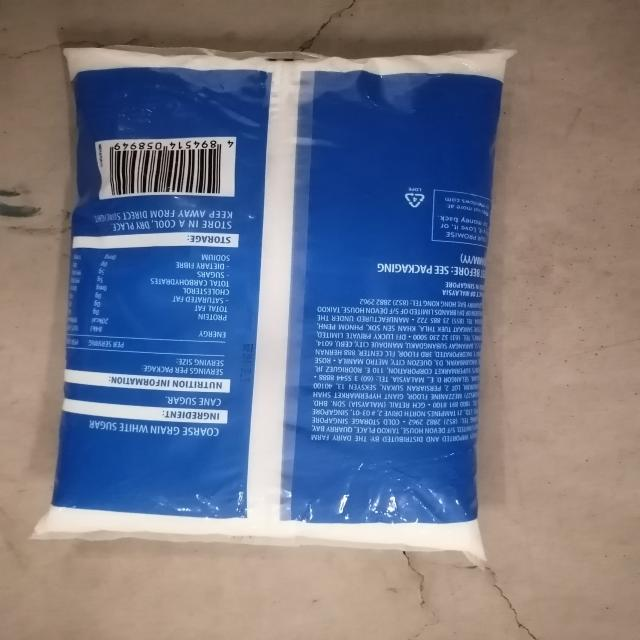object_name: (70, 42, 468, 553)
